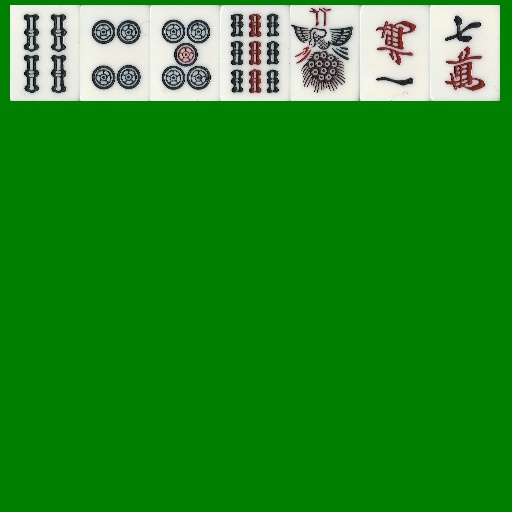1m: (360, 5, 430, 101)
1s: (290, 5, 360, 101)
4p: (80, 5, 150, 101)
4s: (10, 5, 80, 101)
5p: (150, 5, 220, 101)
7m: (430, 5, 500, 101)
9s: (220, 5, 290, 101)
